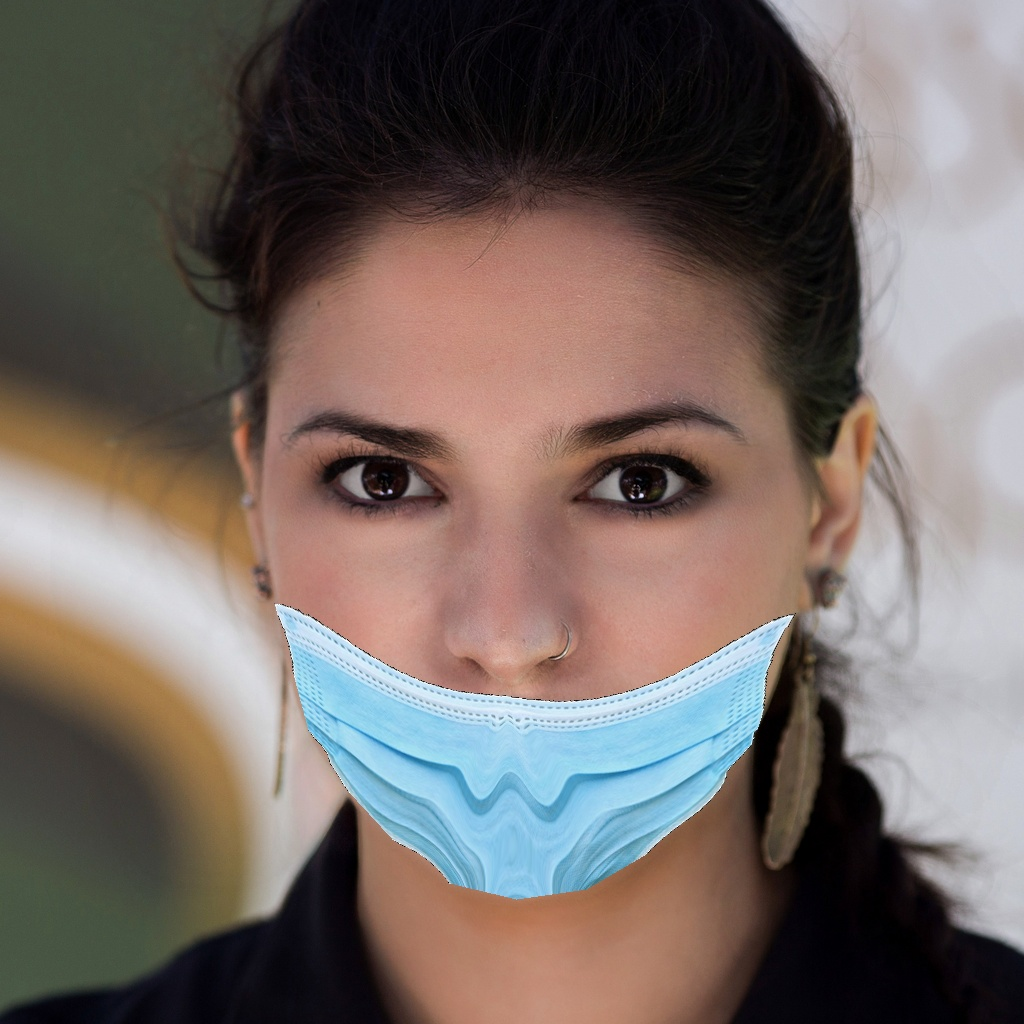Mask_Mouth_Chin: (269, 383, 800, 901)
